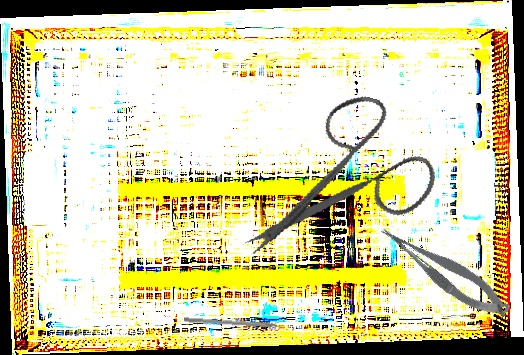Iris Scissors: (240, 74, 453, 300)
Micro Scissor: (376, 210, 515, 331)
Pusher: (183, 317, 295, 331)
